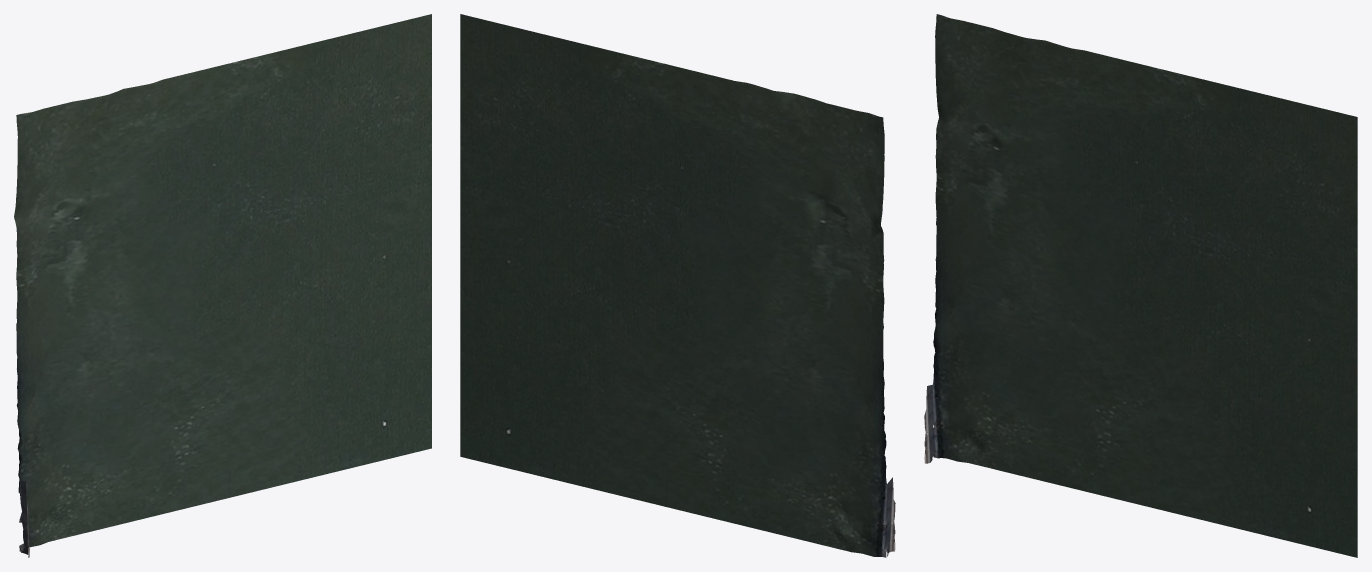
Rendered from Tile_+029_+018_L21_0031000.fbx.
The picture shows the model from 3 angles, left to right: view 1: azimuth 30°, elevation 25°; view 2: azimuth 150°, elevation 25°; view 3: azimuth 330°, elevation 25°; orthographic projection.
Parts seen in each view (by area): view 1: DefaultName; view 2: DefaultName; view 3: DefaultName.
Part boxes in pixels (x1,y1,x2,y2): DefaultName: [14, 14, 431, 557]; DefaultName: [460, 14, 895, 557]; DefaultName: [924, 14, 1357, 557].
Size of the model in its own units: 31.38 by 31.38 by 1.88.
1 material, 1 textured.
